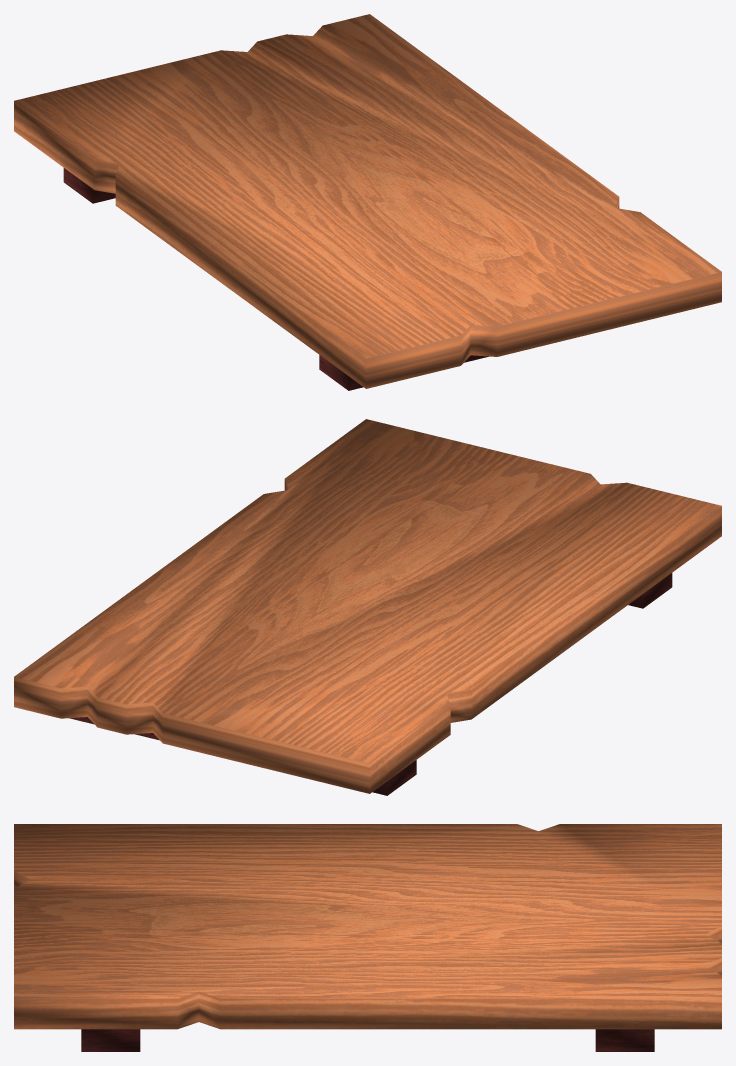
Rendered from bread_cuttingboard.glb.
3 renders of one model, top to bottom at view 1: azimuth 30°, elevation 25°; view 2: azimuth 150°, elevation 25°; view 3: azimuth 270°, elevation 25°, orthographic.
Visible parts, largest first — view 1: blat#$conf|0|PR41RK#$top|1.026_31, blat#$conf|0|PR41RK#$top|1.084_89; view 2: blat#$conf|0|PR41RK#$top|1.026_31, blat#$conf|0|PR41RK#$top|1.084_89; view 3: blat#$conf|0|PR41RK#$top|1.026_31, blat#$conf|0|PR41RK#$top|1.084_89.
Part boxes in pixels (x1=…): blat#$conf|0|PR41RK#$top|1.026_31: x1=14, y1=14, x2=721, y2=388; blat#$conf|0|PR41RK#$top|1.084_89: x1=63, y1=168, x2=488, y2=390; blat#$conf|0|PR41RK#$top|1.026_31: x1=14, y1=419, x2=721, y2=793; blat#$conf|0|PR41RK#$top|1.084_89: x1=69, y1=573, x2=672, y2=795; blat#$conf|0|PR41RK#$top|1.026_31: x1=14, y1=824, x2=721, y2=1029; blat#$conf|0|PR41RK#$top|1.084_89: x1=81, y1=1029, x2=654, y2=1051.
Bounding box in the file's own units: 0.49 × 0.08 × 0.84.
Materials: 2 (2 with a texture image).
